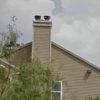Chimney: (24, 9, 56, 66)
